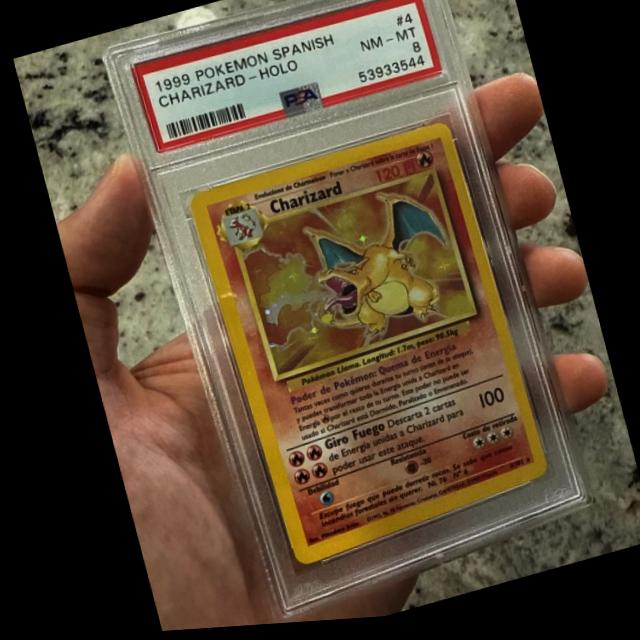card: (185, 128, 546, 571)
psa_label: (132, 0, 442, 153)
psa_slab: (99, 0, 591, 627)
